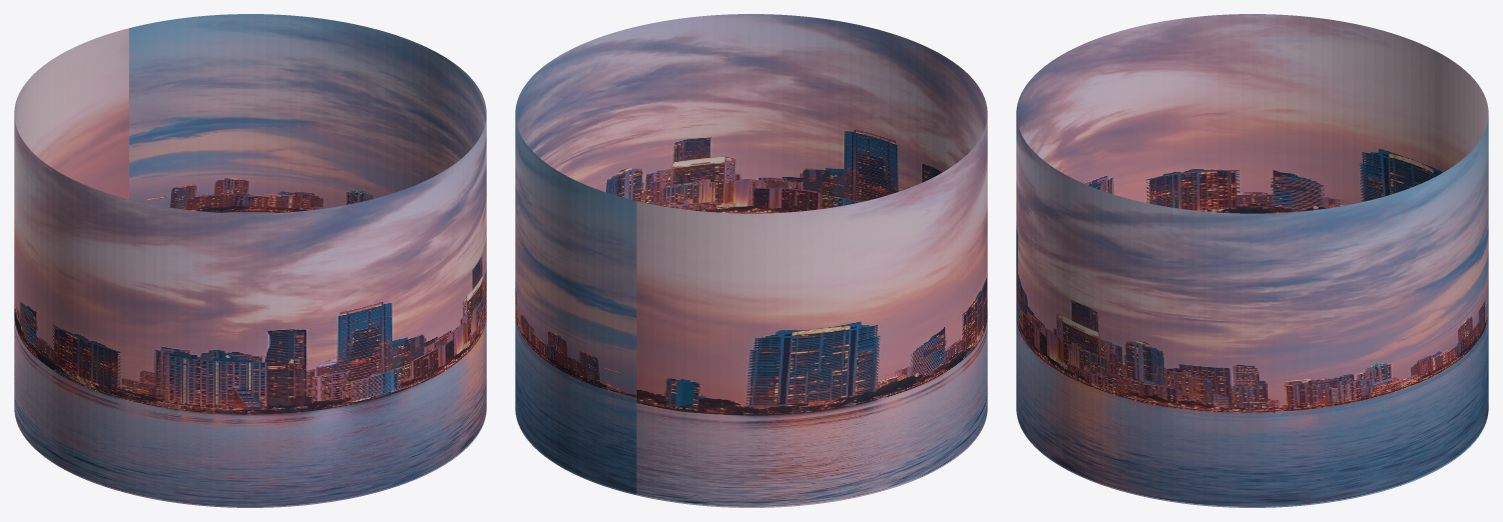
Rendered from cylinder_screen_ufo.obj.
3 renders of one model, left to right at view 1: azimuth 30°, elevation 25°; view 2: azimuth 150°, elevation 25°; view 3: azimuth 270°, elevation 25°, orthographic.
Visible parts, largest first — view 1: Cylinder; view 2: Cylinder; view 3: Cylinder.
Part boxes in pixels (x1,y1,x2,y2): Cylinder: (14, 14, 486, 507); Cylinder: (515, 14, 987, 507); Cylinder: (1016, 14, 1488, 507).
Size of the model in its own units: 3.2 by 2.2 by 3.2.
